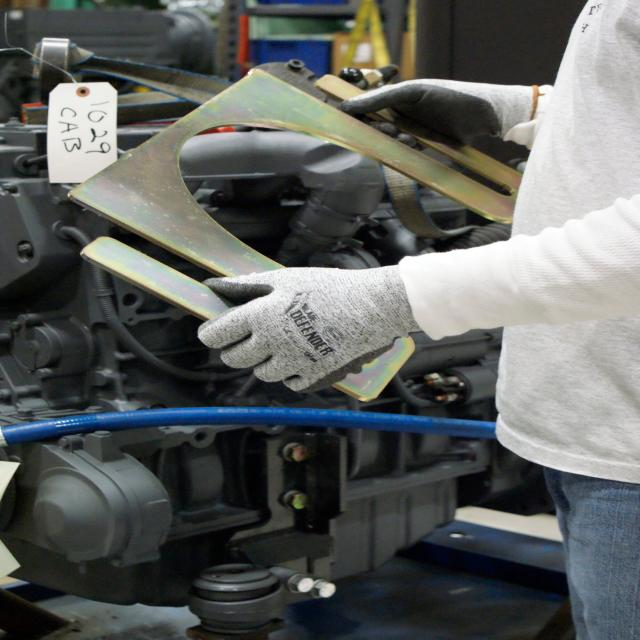gloves: (191, 261, 418, 389), (332, 76, 552, 143)
